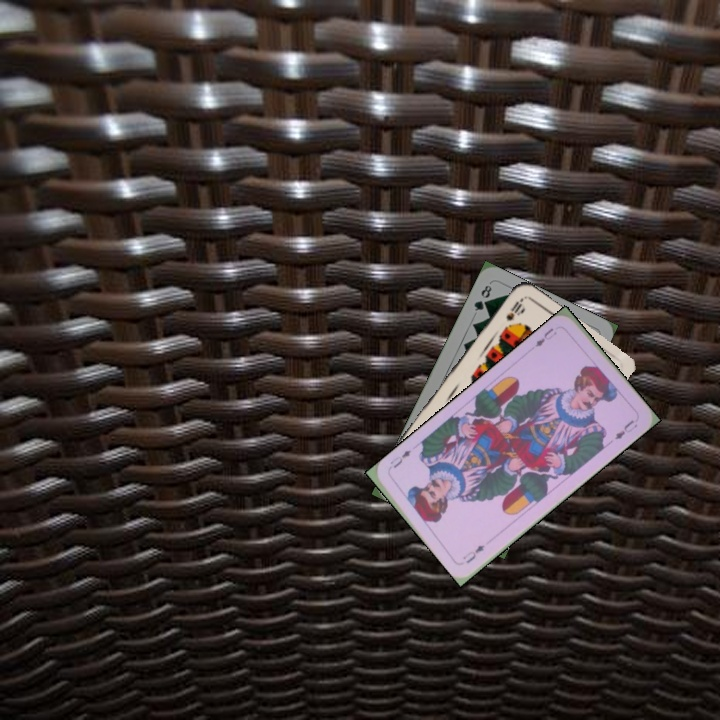EU: (531, 322, 562, 350), (459, 540, 487, 566)
G8: (470, 281, 494, 314)
S10: (502, 294, 527, 324)
